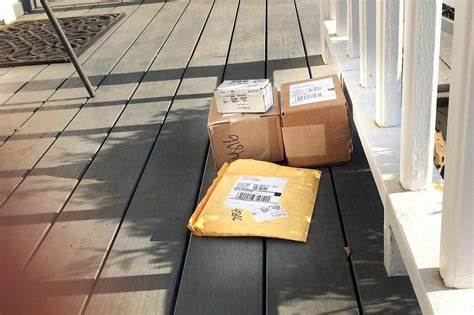package: (280, 72, 353, 171), (208, 89, 280, 184), (212, 77, 275, 112)
